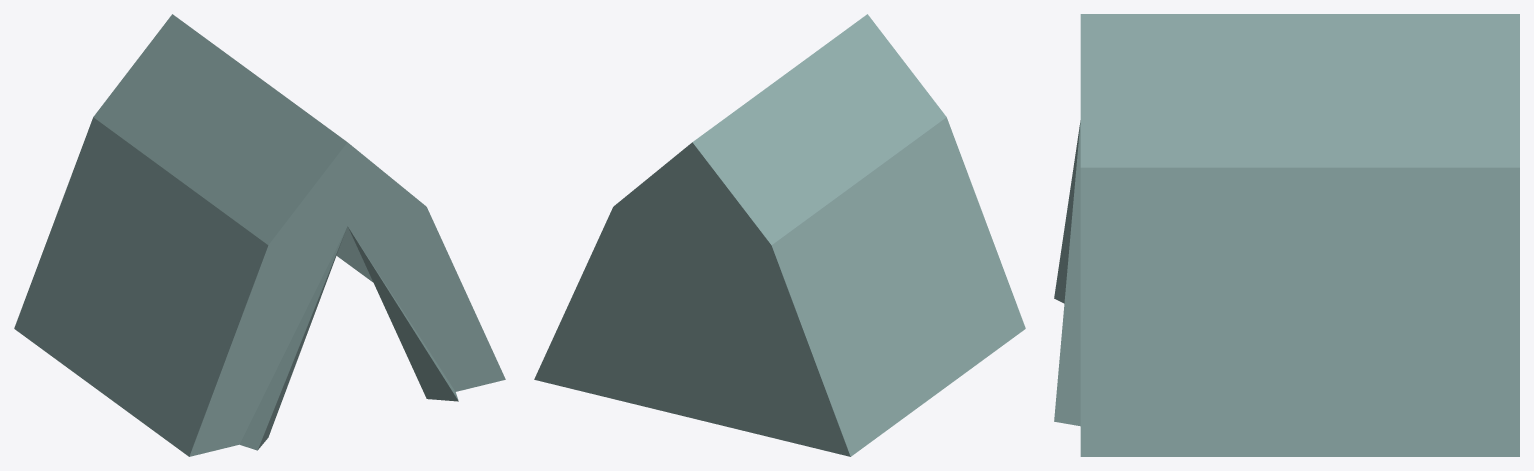
The model's file is naturePack_075.fbx.
The picture shows the model from 3 angles, left to right: view 1: azimuth 30°, elevation 25°; view 2: azimuth 150°, elevation 25°; view 3: azimuth 270°, elevation 25°; orthographic projection. The views are drawn at different scales.
Visible parts, largest first — view 1: naturePack_075; view 2: naturePack_075; view 3: naturePack_075.
Boxes of the visible parts, x1=… form: naturePack_075: x1=14, y1=14, x2=505, y2=456; naturePack_075: x1=534, y1=14, x2=1025, y2=456; naturePack_075: x1=1054, y1=14, x2=1519, y2=456.
Size of the model in its own units: 336 by 280 by 342.
